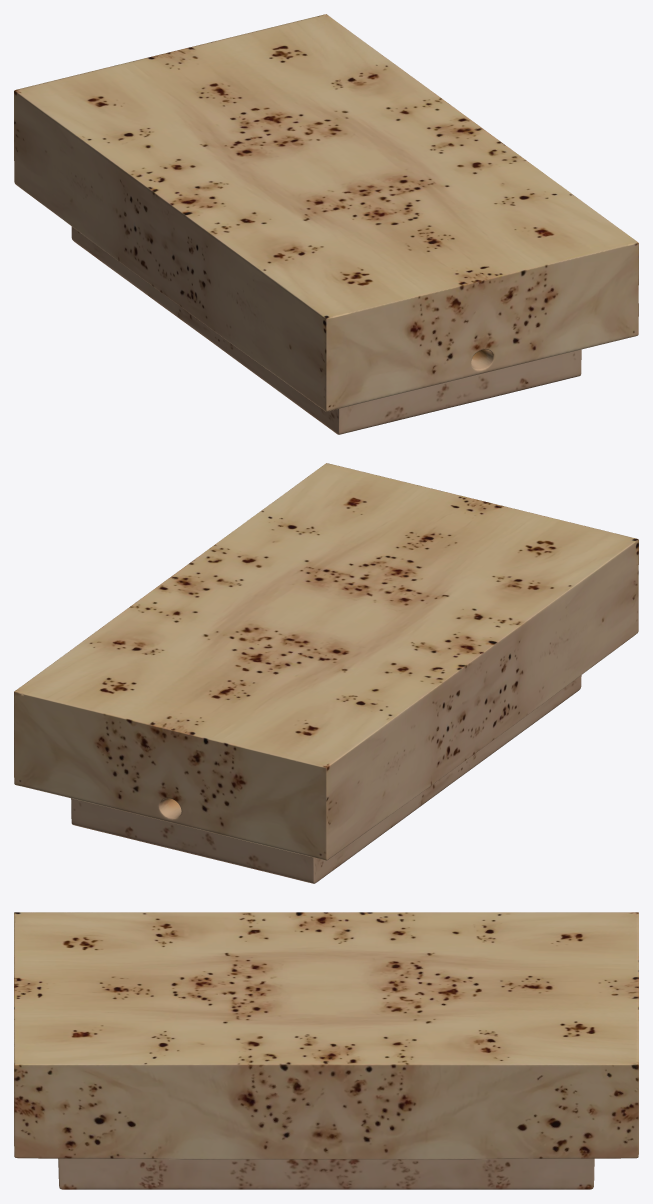
3 views of the same model, one above another, from view 1: azimuth 30°, elevation 25°; view 2: azimuth 150°, elevation 25°; view 3: azimuth 270°, elevation 25° (orthographic).
Parts seen in each view (by area): view 1: tripo_node_2c6cab71-f8d7-4f11-9f10-9a5b4b587c9a; view 2: tripo_node_2c6cab71-f8d7-4f11-9f10-9a5b4b587c9a; view 3: tripo_node_2c6cab71-f8d7-4f11-9f10-9a5b4b587c9a.
Boxes of the visible parts, box(x1,y1,x2,y2) form: tripo_node_2c6cab71-f8d7-4f11-9f10-9a5b4b587c9a: box(14, 14, 638, 434); tripo_node_2c6cab71-f8d7-4f11-9f10-9a5b4b587c9a: box(14, 463, 638, 883); tripo_node_2c6cab71-f8d7-4f11-9f10-9a5b4b587c9a: box(14, 912, 638, 1189).
Bounding box in the file's own units: 0.5782 × 0.2525 × 1.
1 material, 1 textured.
